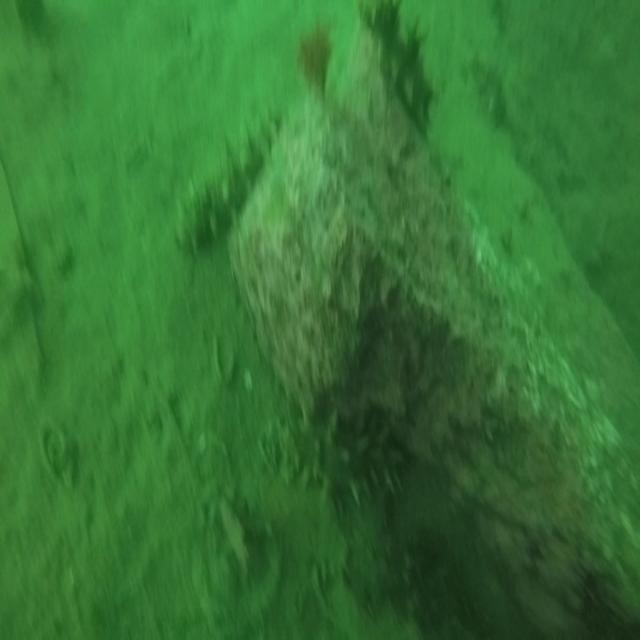echinus: (296, 31, 336, 93)
holothurian: (170, 103, 281, 256), (255, 416, 401, 500), (362, 0, 434, 130)
